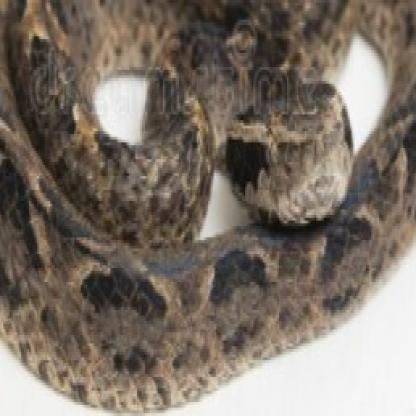snakes: (0, 0, 416, 408)
